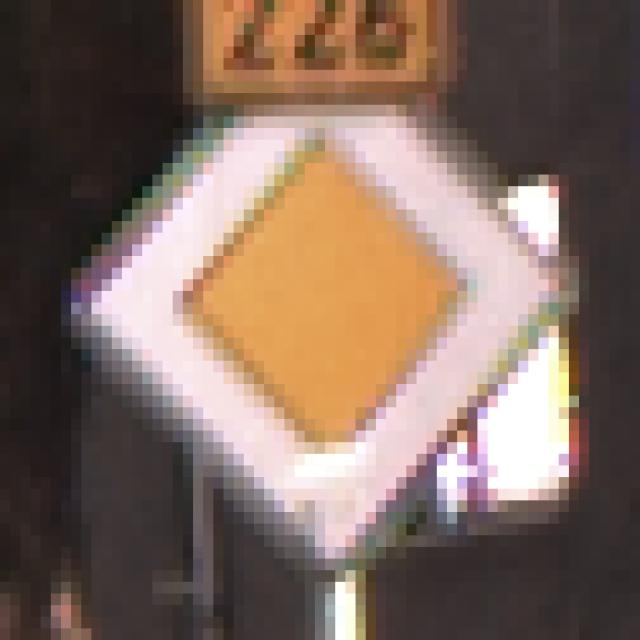Main Road: (52, 71, 590, 571)
